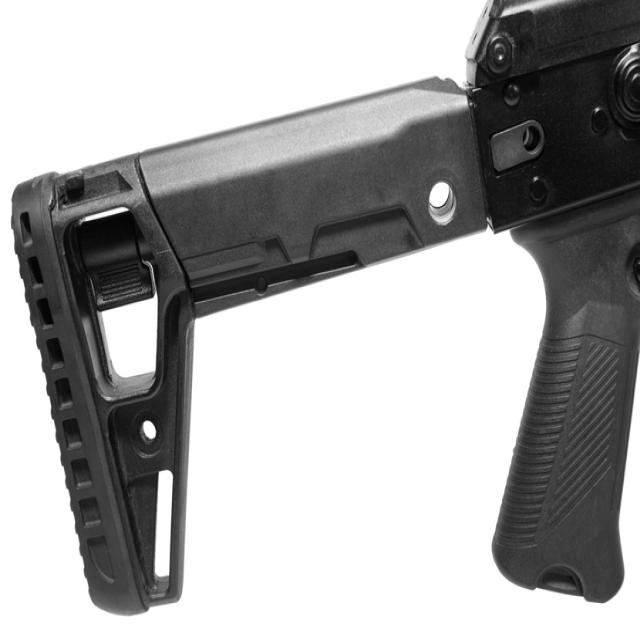firearm: (10, 0, 640, 617)
